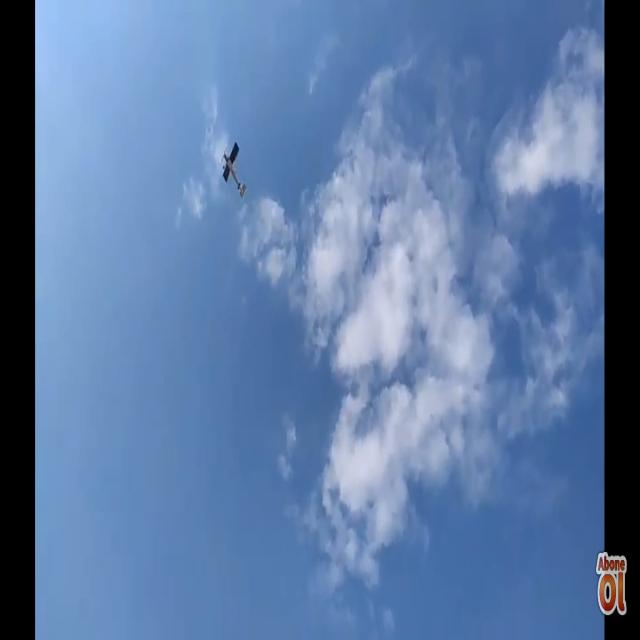iha: (221, 142, 246, 200)
